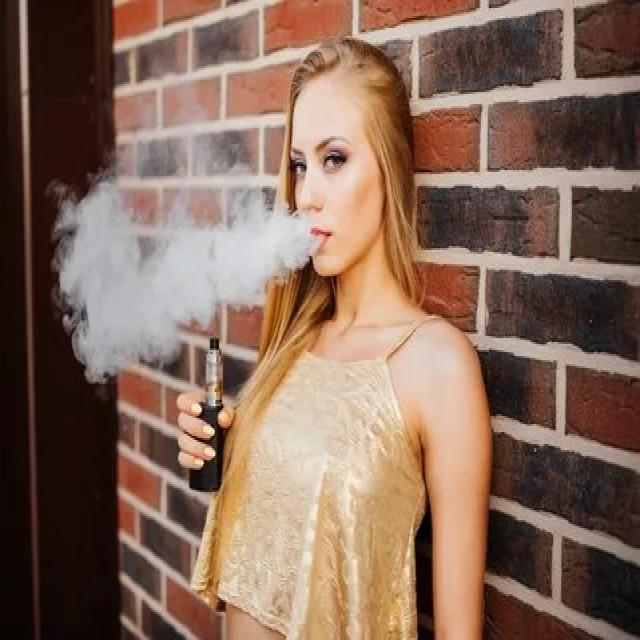cigarette: (189, 334, 227, 504)
